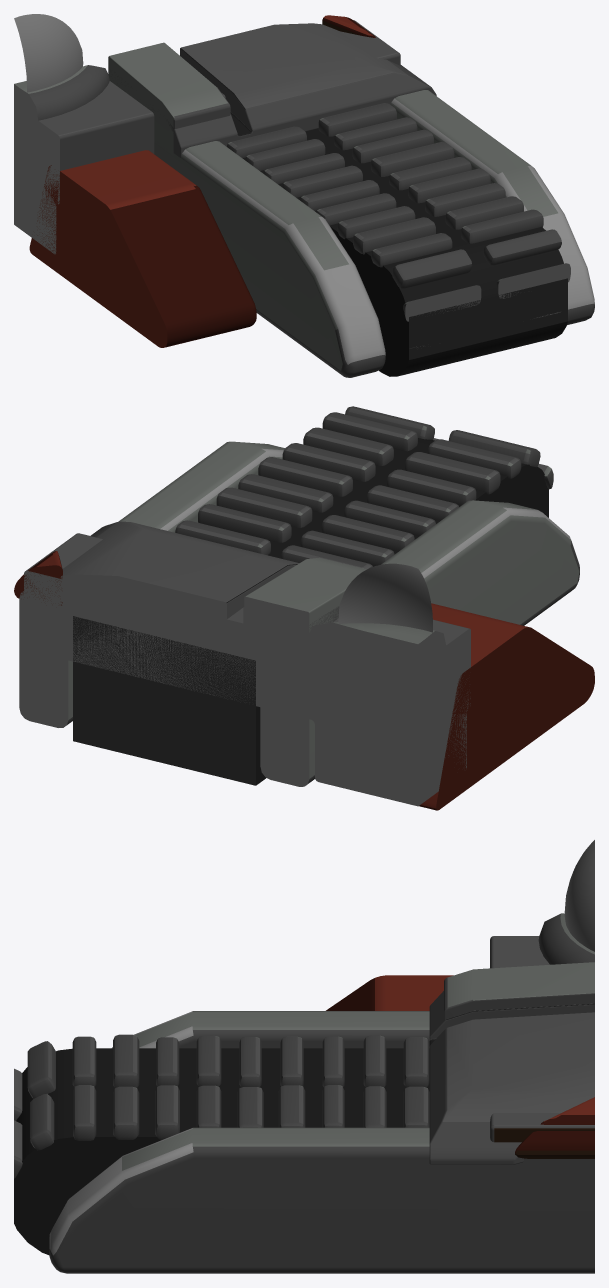
The model's file is track_carrier_br.glb.
3 views of the same model, one above another, from view 1: azimuth 30°, elevation 25°; view 2: azimuth 150°, elevation 25°; view 3: azimuth 270°, elevation 25° (orthographic). The views are drawn at different scales.
Parts seen in each view (by area): view 1: track_carrier_br; view 2: track_carrier_br; view 3: track_carrier_br.
Boxes of the visible parts, <box> form: track_carrier_br: <box>14,14,594,377</box>; track_carrier_br: <box>14,406,594,810</box>; track_carrier_br: <box>14,840,594,1273</box>.
Size of the model in its own units: 22.3 by 13.57 by 28.
